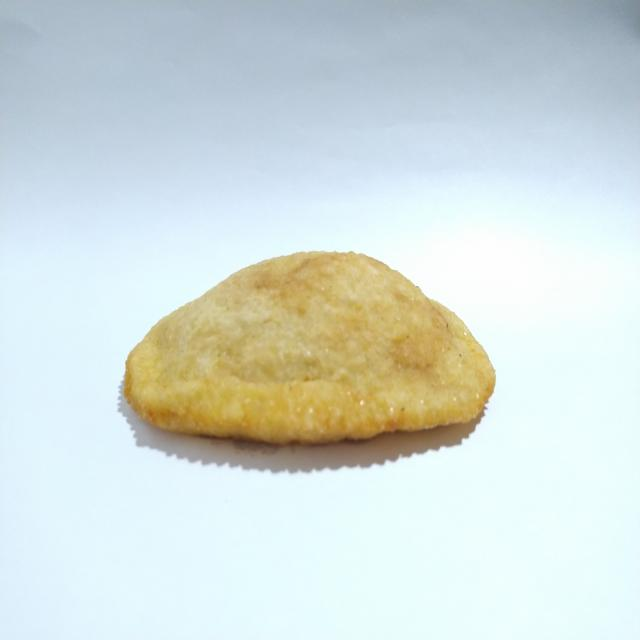Pastel_Mandio: (119, 245, 502, 468)
